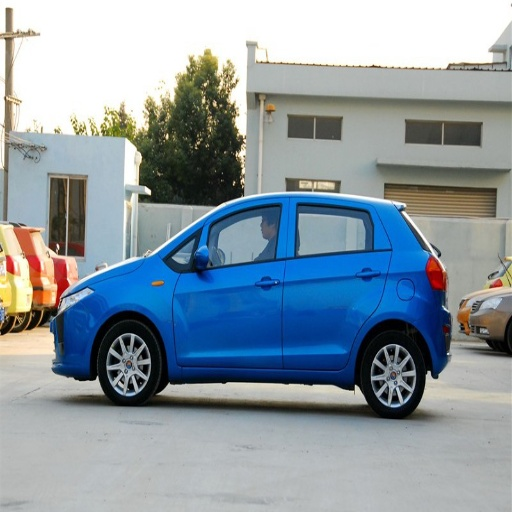back_left_door: (283, 199, 390, 369)
